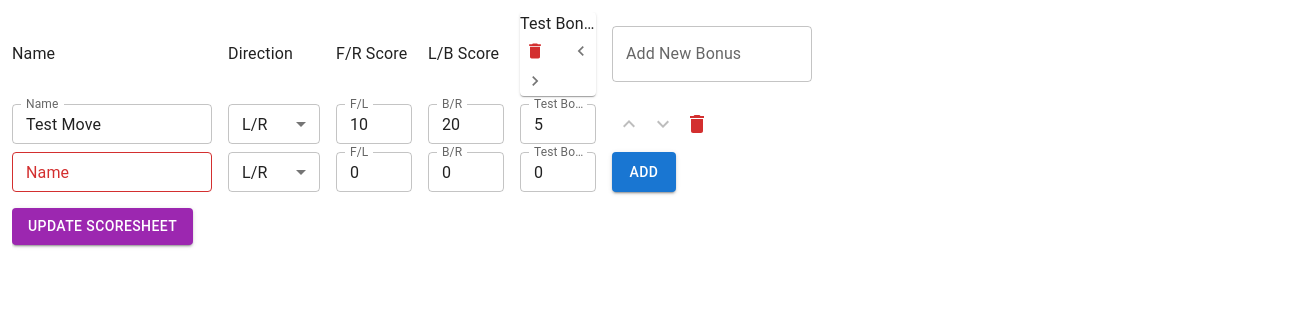
ScoresheetMoves › unsaved changes warning › is cleared after a successful save
Replace the text in the 1st field showing "Test Move" with "Saved Move" at (112, 124), box x1=12 y1=104 x2=212 y2=144
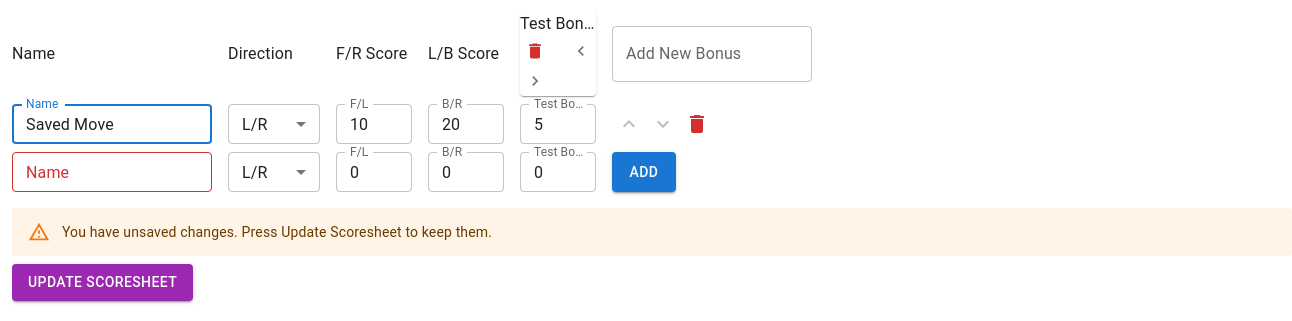
Expected: the text "unsaved changes" is shown, x1=62 y1=224 x2=492 y2=240
Click the button "Update Scoresheet" at (103, 282), box x1=12 y1=264 x2=193 y2=300
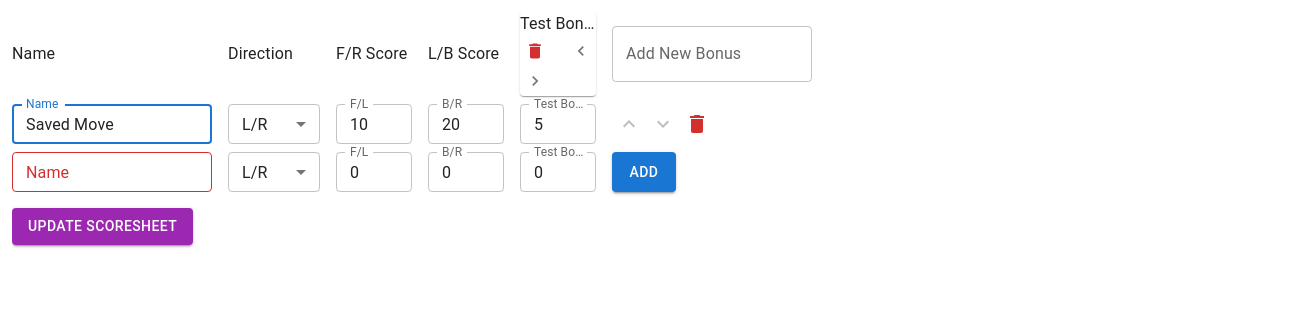
Expected: the text "unsaved changes" is gone
